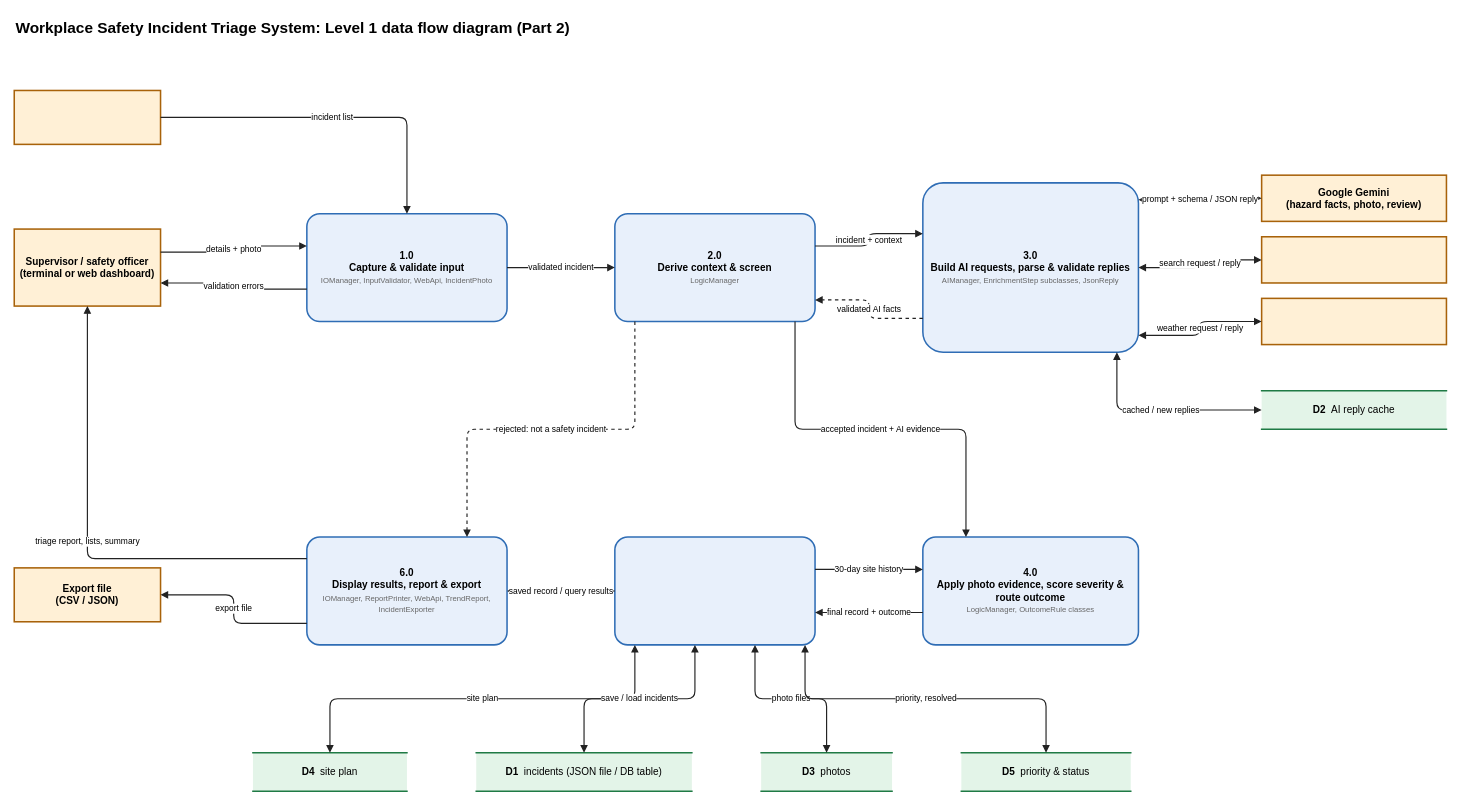
Image size: 1460x805. Some labels were removed from this diagram. Here are the shapes that lost their labels. From the top down, the centre of each, then its label:
At point 87,117: "Batch input file (--batch JSON)".
At point 1353,259: "Groq (web search)".
At point 1353,321: "Open-Meteo (weather)".
At point 714,590: "5.0 Save, query, edit & export records DataManager".
